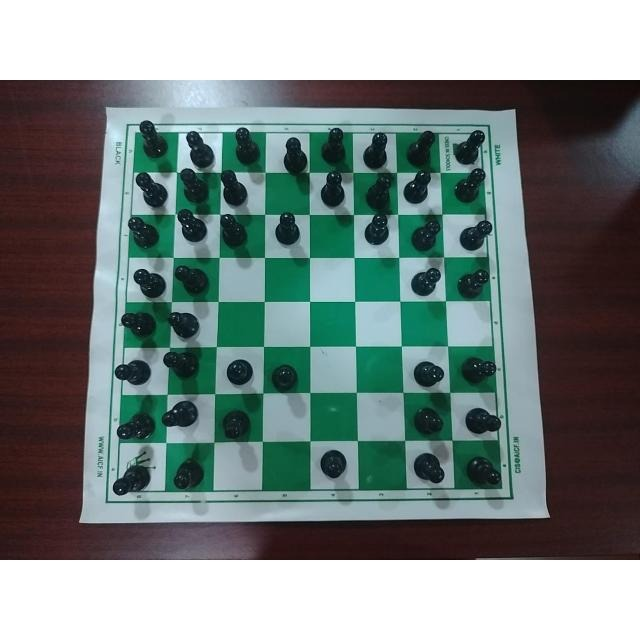black-pawn: (460, 401, 504, 437), (127, 263, 167, 299), (463, 454, 505, 488), (216, 168, 252, 207), (162, 348, 202, 383), (134, 171, 170, 209), (216, 212, 252, 250), (182, 128, 216, 168), (456, 263, 492, 300), (138, 118, 170, 159), (115, 412, 157, 443), (173, 209, 209, 245), (173, 260, 209, 296), (405, 130, 439, 168), (316, 170, 349, 209), (453, 130, 489, 165), (110, 465, 153, 494), (121, 309, 161, 340), (401, 171, 435, 207), (408, 219, 442, 255), (411, 401, 447, 435), (270, 213, 302, 251), (173, 454, 205, 492), (409, 357, 447, 389), (114, 355, 153, 386), (166, 308, 203, 340), (160, 401, 202, 429), (278, 135, 308, 174), (231, 125, 260, 165), (458, 218, 492, 252), (220, 407, 254, 441), (453, 167, 486, 202), (318, 445, 350, 481), (320, 125, 348, 165), (415, 448, 447, 483), (458, 356, 498, 384), (176, 168, 209, 201), (362, 174, 394, 208), (128, 215, 160, 249), (225, 354, 257, 388), (362, 213, 392, 249), (361, 134, 389, 170), (271, 359, 299, 395), (406, 266, 442, 294)
